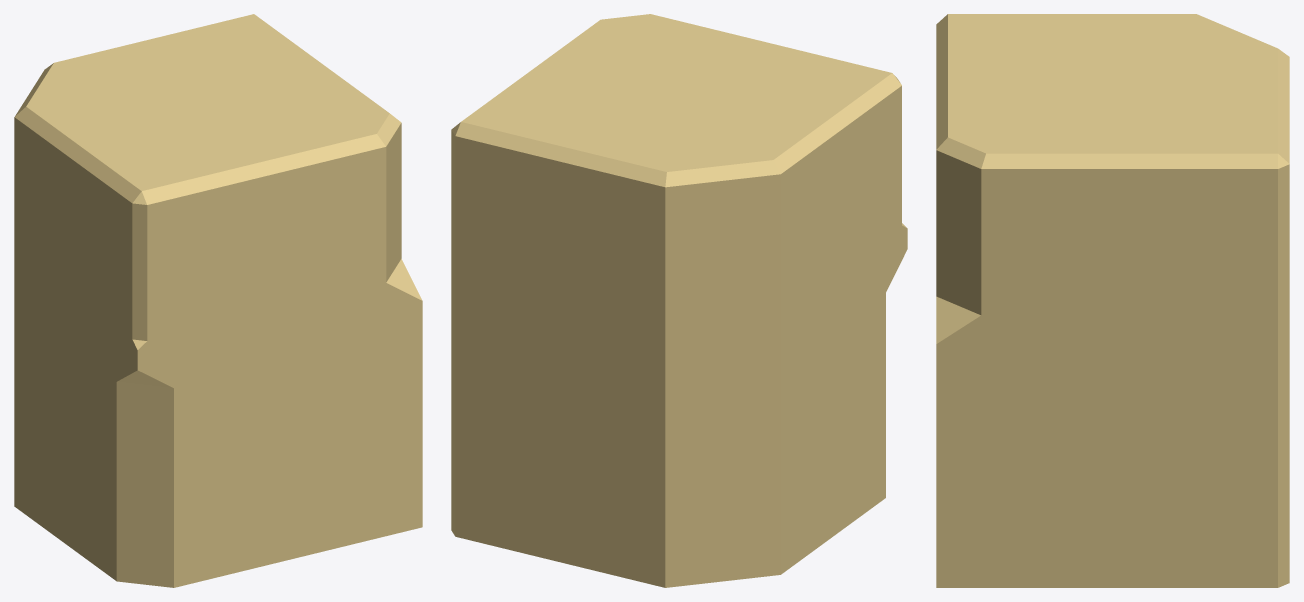
File: Carved_Stones_3.fbx
The picture shows the model from 3 angles, left to right: view 1: azimuth 30°, elevation 25°; view 2: azimuth 150°, elevation 25°; view 3: azimuth 270°, elevation 25°; orthographic projection. The views are drawn at different scales.
Visible parts, largest first — view 1: MESH_Carved_Stones_3; view 2: MESH_Carved_Stones_3; view 3: MESH_Carved_Stones_3.
Part boxes in pixels (<box>): MESH_Carved_Stones_3: <box>14,14,422,587</box>; MESH_Carved_Stones_3: <box>451,14,907,587</box>; MESH_Carved_Stones_3: <box>936,14,1289,587</box>.
Size of the model in its own units: 5.42 by 7.27 by 5.42.
